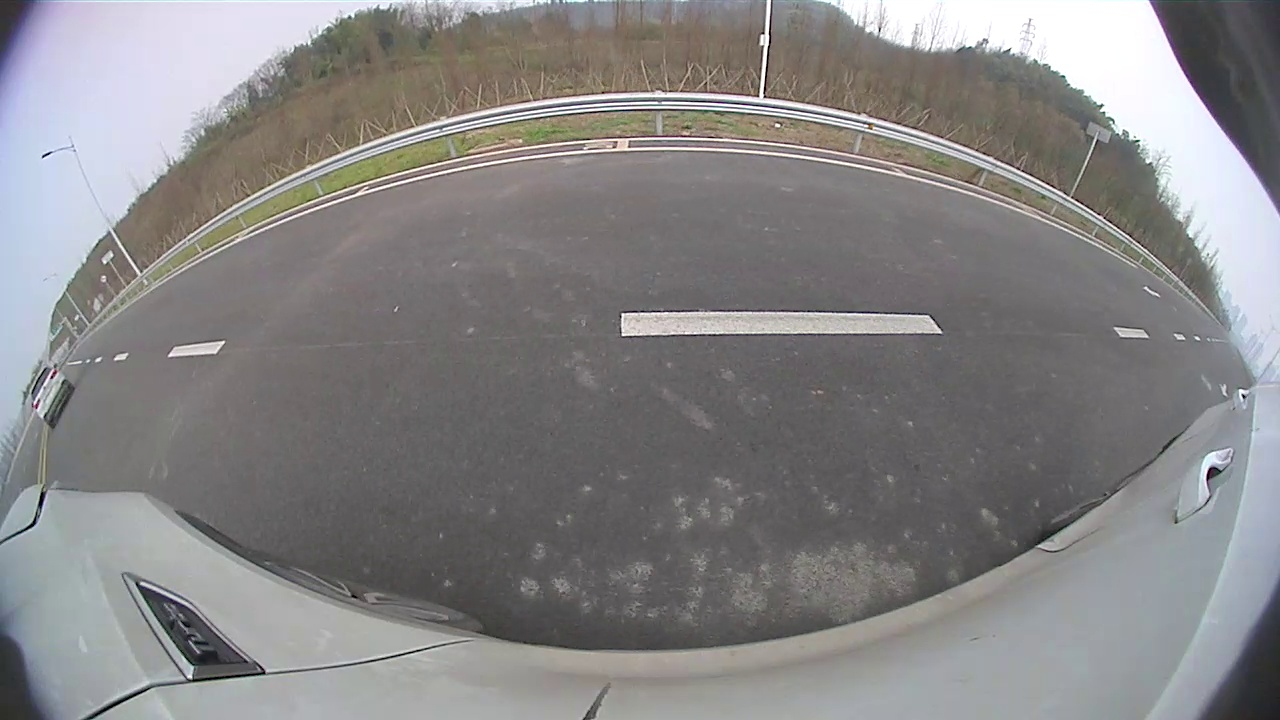car: (28, 366, 77, 429)
